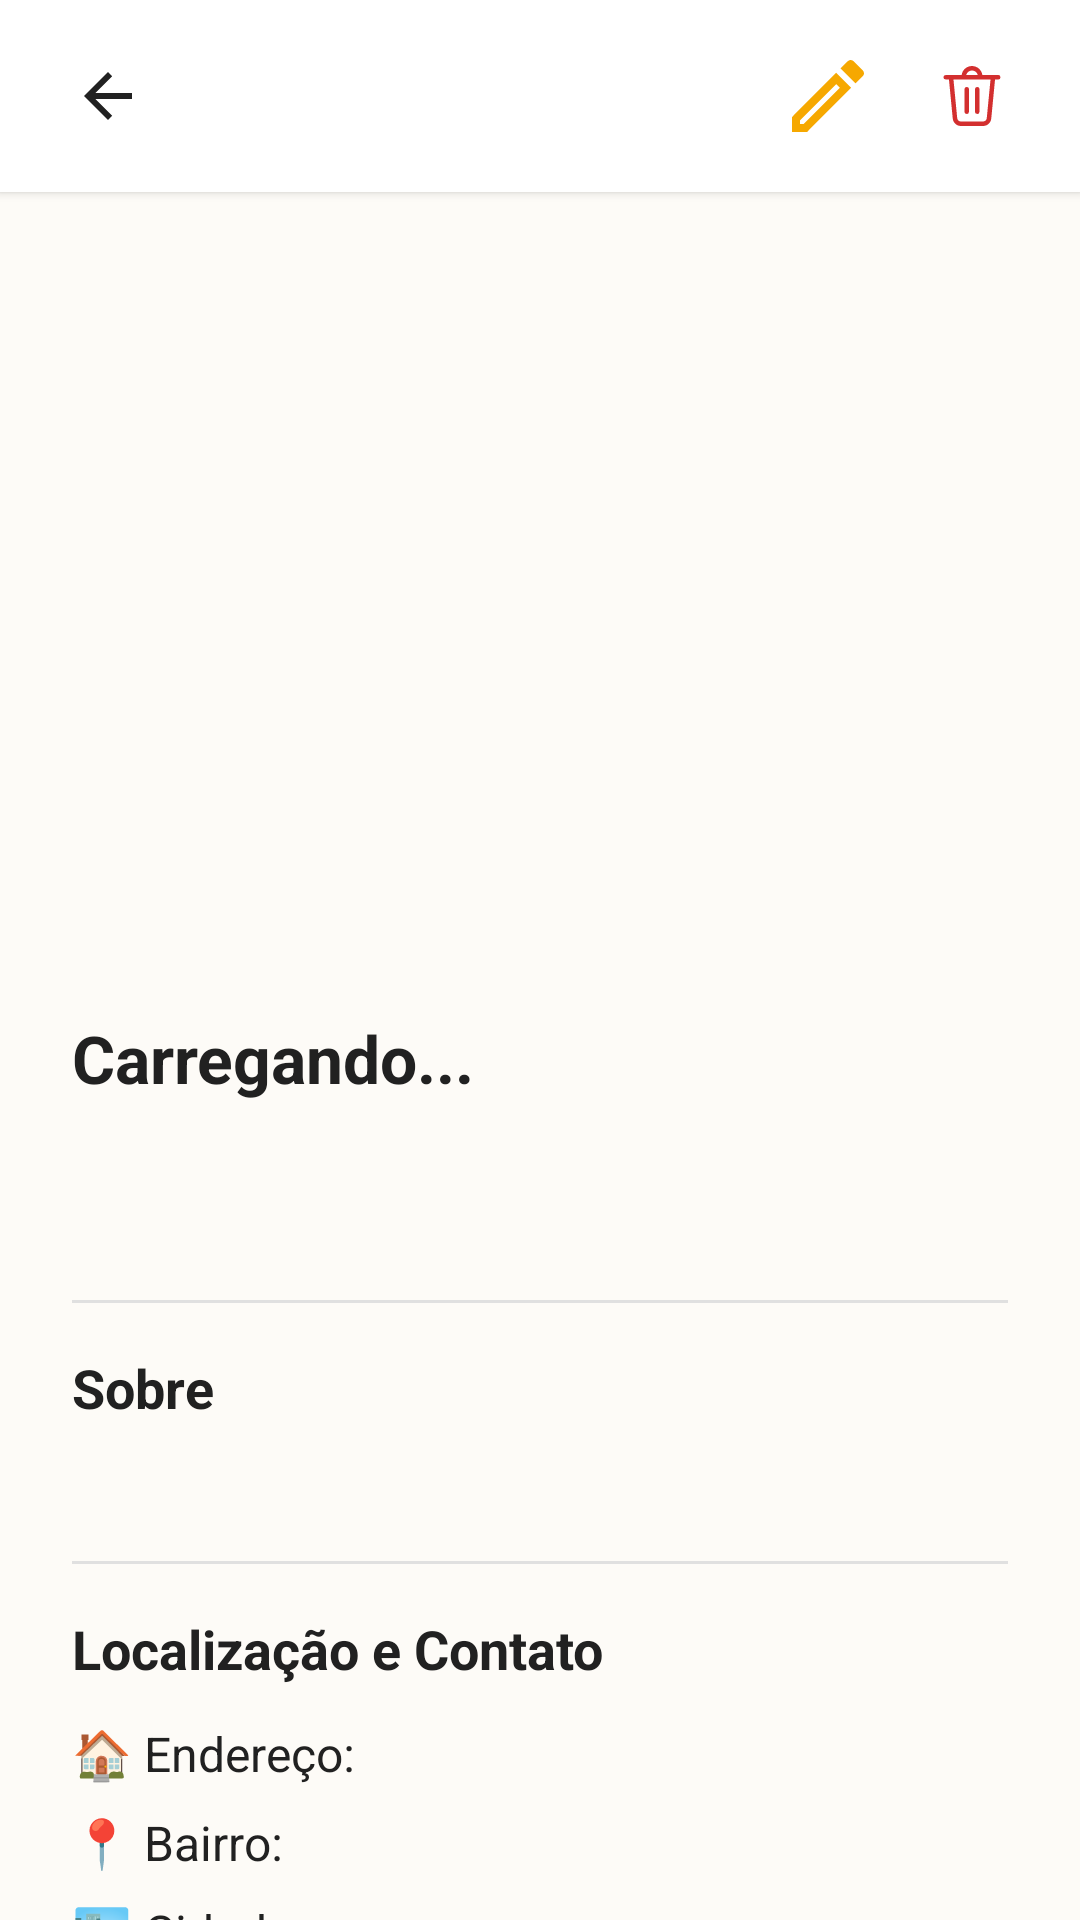

Where to tap for icons on this 1080x1920 app screen, as (x=x, y=y):
create: (x=828, y=96)
delete: (x=972, y=96)
